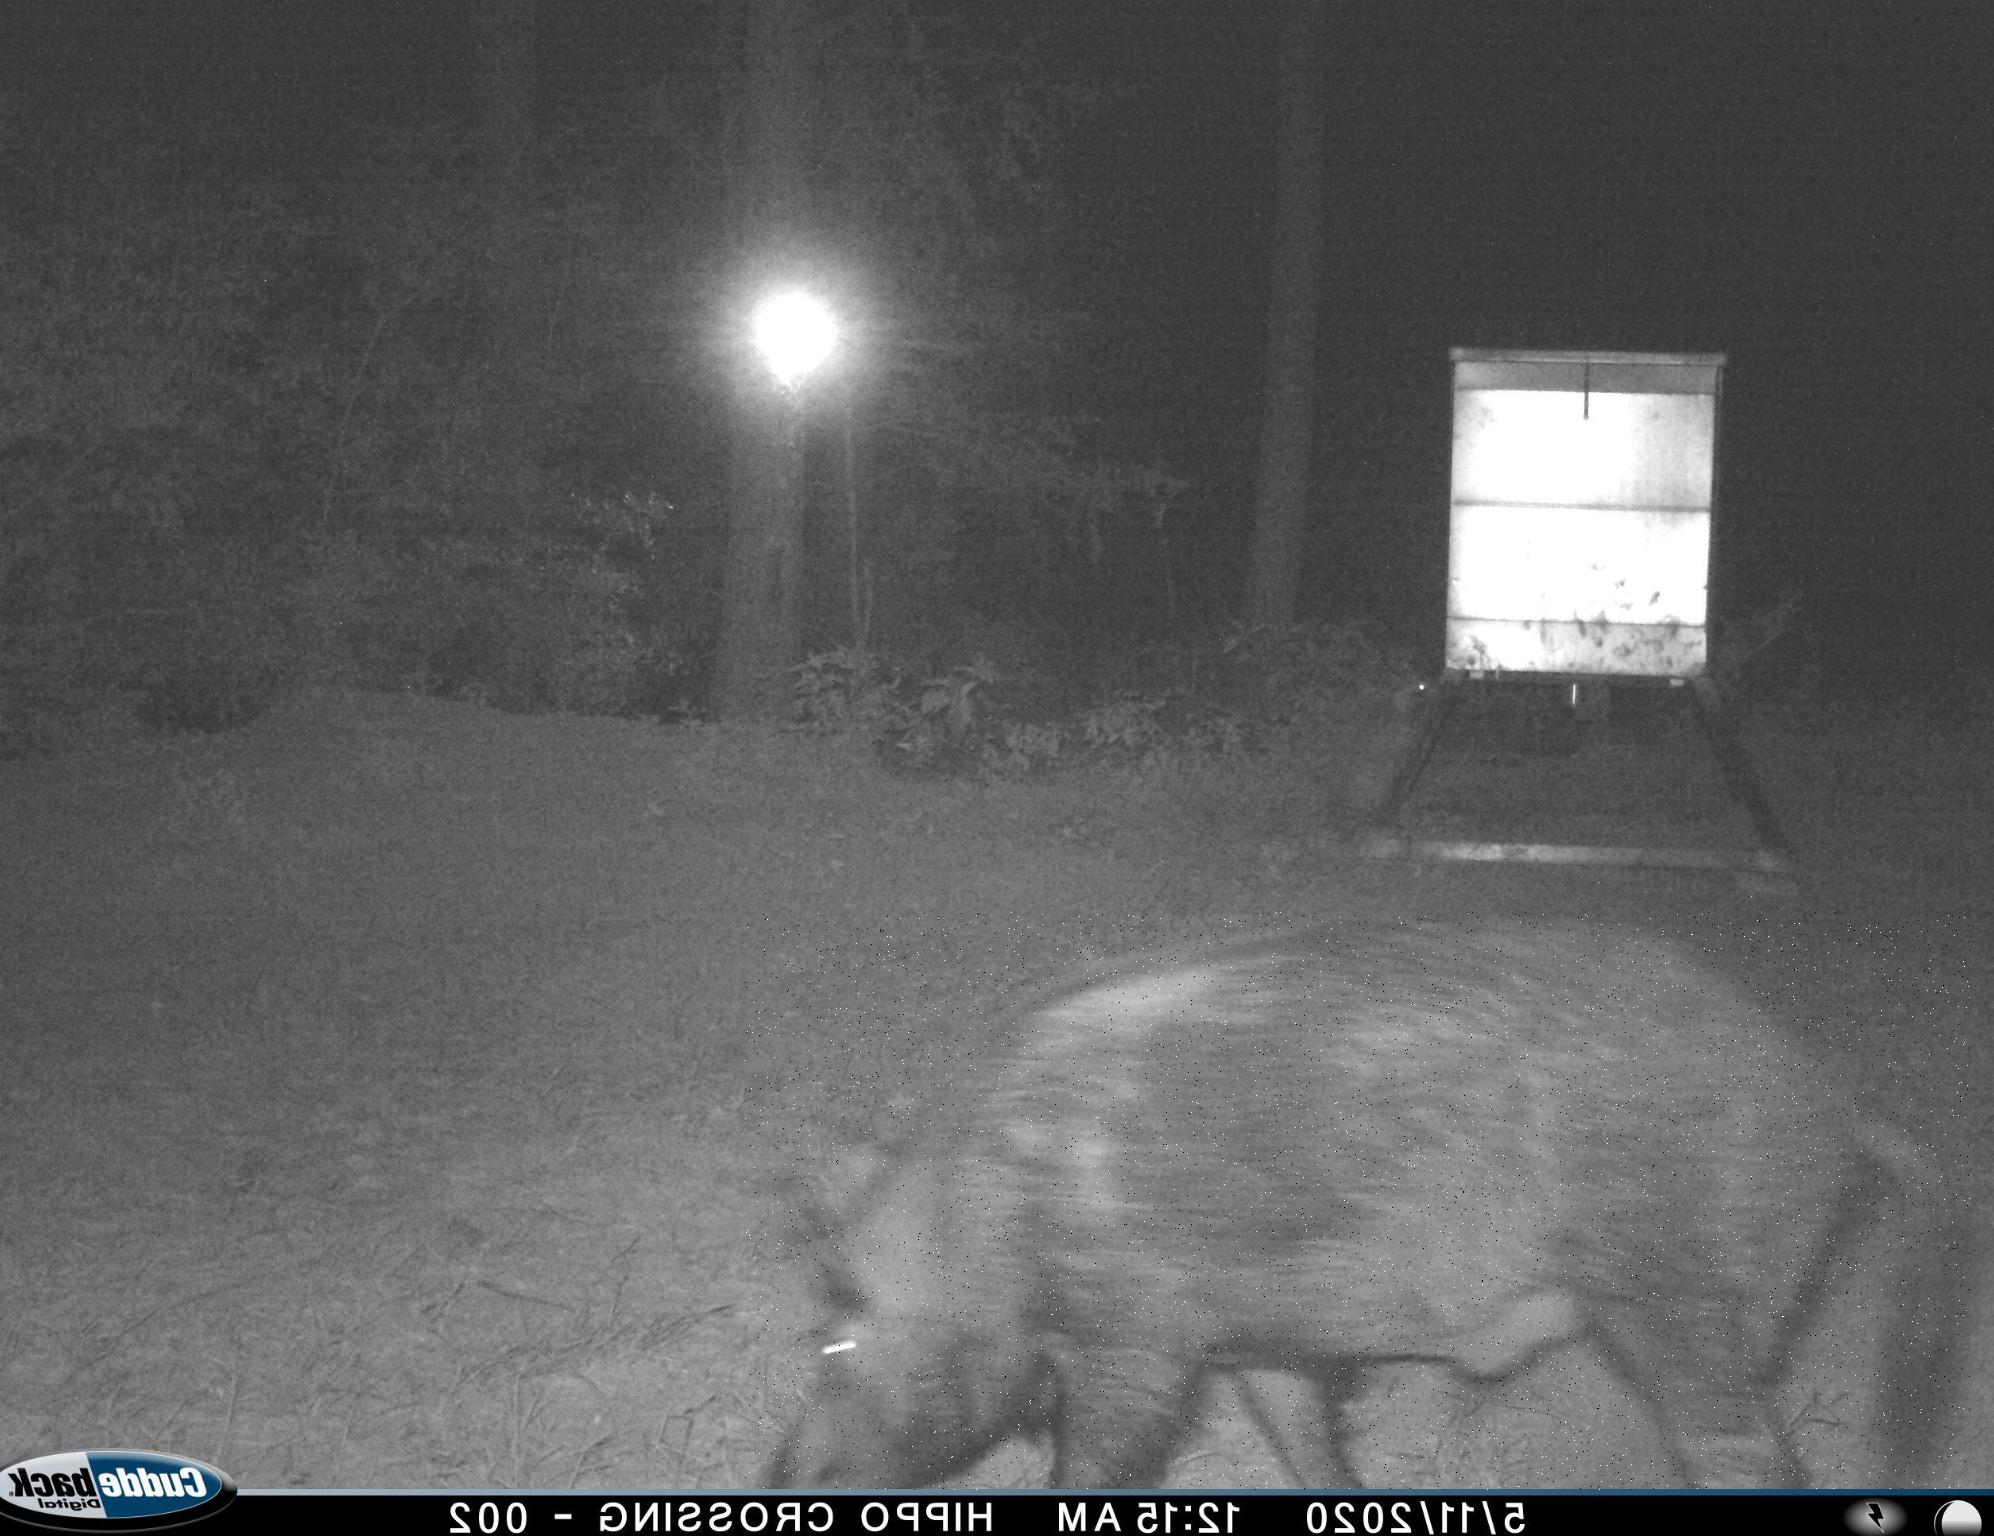Hog: (744, 912, 1970, 1490)
